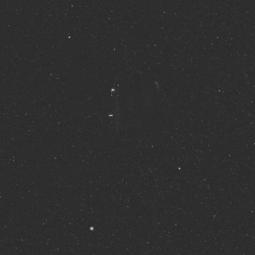proba_3_ocs: (98, 72, 171, 139)
